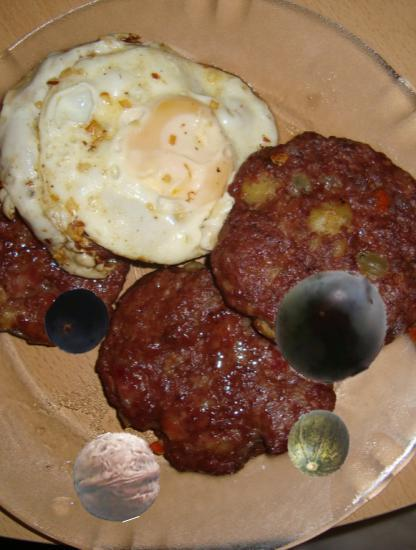Grape: (44, 288, 112, 356)
Melon: (286, 410, 355, 479)
Plum: (272, 266, 392, 386)
Walnut: (72, 432, 162, 522)
